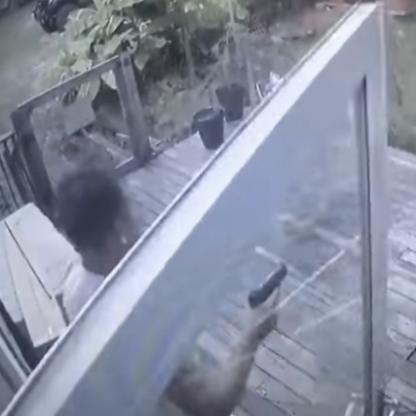weapon: (244, 262, 289, 319)
